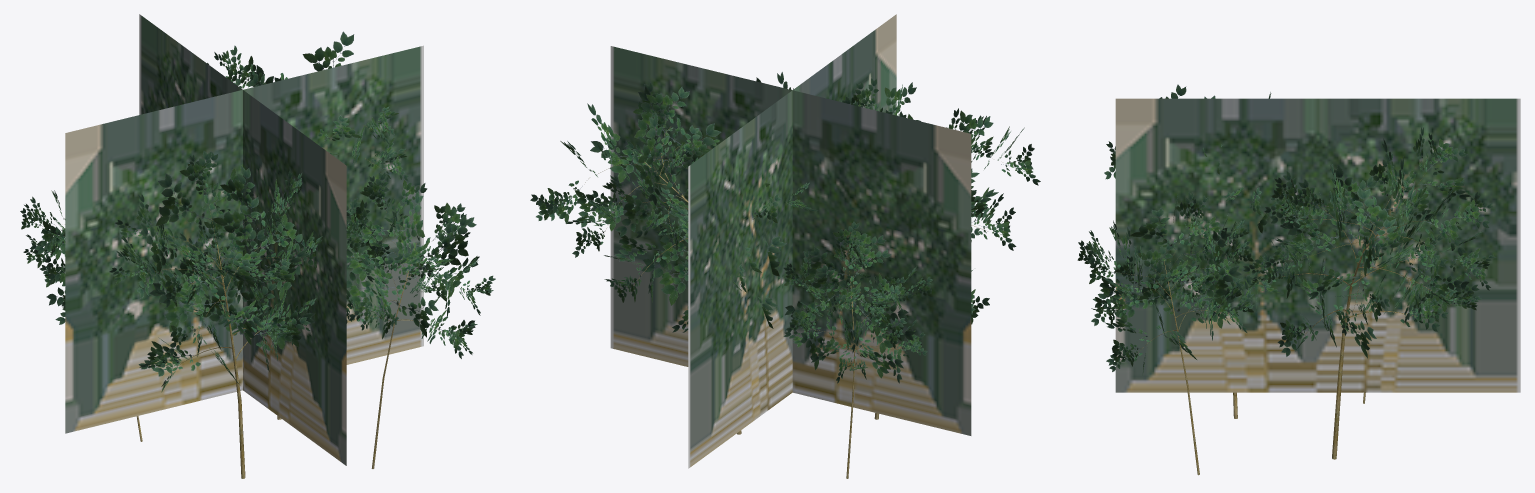
File: Shrub1-5A.fbx
3 views of the same model, side by side, from view 1: azimuth 30°, elevation 25°; view 2: azimuth 150°, elevation 25°; view 3: azimuth 270°, elevation 25° (orthographic). The views are drawn at different scales.
Visible parts, largest first — view 1: Billboard-Shrub1-5A, Shrub1-5A_LOD0; view 2: Billboard-Shrub1-5A, Shrub1-5A_LOD0; view 3: Billboard-Shrub1-5A, Shrub1-5A_LOD0.
Boxes of the visible parts, x1,y1,x2,y2 form: Billboard-Shrub1-5A: (65,14,423,465); Shrub1-5A_LOD0: (20,31,495,478); Billboard-Shrub1-5A: (610,14,971,468); Shrub1-5A_LOD0: (530,72,1040,478); Billboard-Shrub1-5A: (1115,98,1520,392); Shrub1-5A_LOD0: (1077,84,1495,475).
Size of what is drawn, in the model's own units: 477 by 420 by 500.
